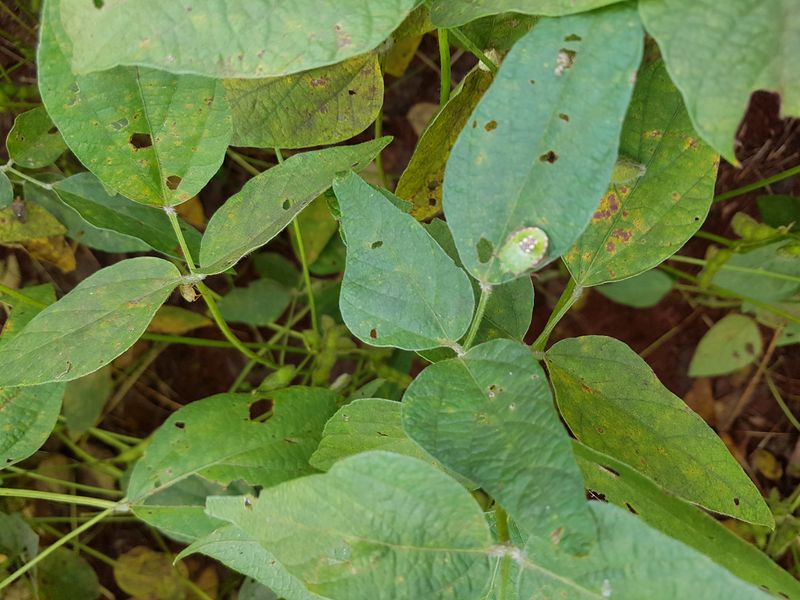Nezara_viridula_ninfa: (479, 215, 561, 287)
